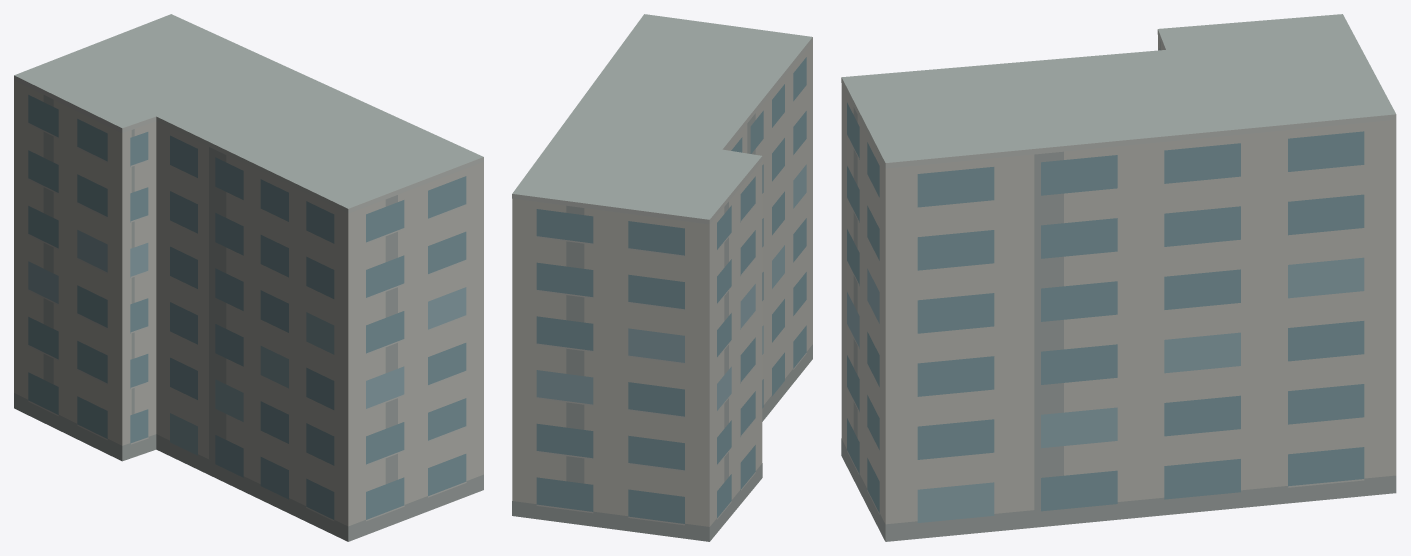
File: survey-upis-32822693.glb
The picture shows the model from 3 angles, left to right: view 1: azimuth 30°, elevation 25°; view 2: azimuth 150°, elevation 25°; view 3: azimuth 270°, elevation 25°; orthographic projection. The views are drawn at different scales.
Visible parts, largest first — view 1: survey-upis-32822693.tmp; view 2: survey-upis-32822693.tmp; view 3: survey-upis-32822693.tmp.
Part boxes in pixels (x1,y1,x2,y2): survey-upis-32822693.tmp: [14, 14, 483, 541]; survey-upis-32822693.tmp: [512, 14, 812, 541]; survey-upis-32822693.tmp: [841, 14, 1396, 541].
Bounding box in the file's own units: 13.94 × 16.5 × 21.92.
